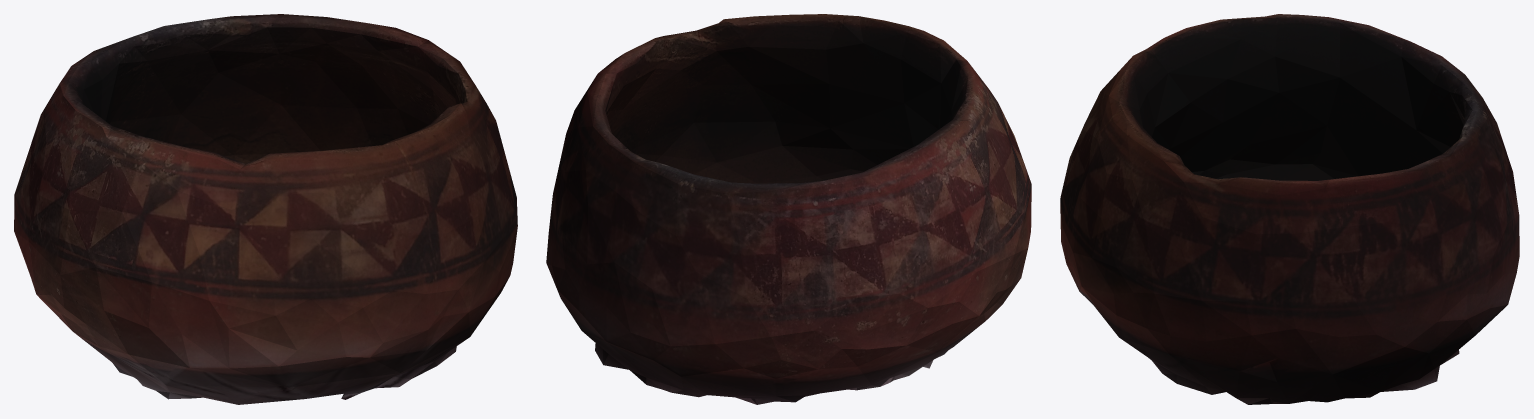
Rendered from 6-vasija3final.glb.
3 views of the same model, side by side, from view 1: azimuth 30°, elevation 25°; view 2: azimuth 150°, elevation 25°; view 3: azimuth 270°, elevation 25° (orthographic). The views are drawn at different scales.
Visible parts, largest first — view 1: Mesh_1.002, Mesh_2.002; view 2: Mesh_1.002, Mesh_2.002; view 3: Mesh_1.002, Mesh_2.002.
Boxes of the visible parts, bbox=[...] form: Mesh_1.002: bbox=[14, 14, 517, 404]; Mesh_2.002: bbox=[69, 22, 475, 399]; Mesh_1.002: bbox=[546, 14, 1031, 404]; Mesh_2.002: bbox=[588, 20, 952, 402]; Mesh_1.002: bbox=[1060, 14, 1519, 404]; Mesh_2.002: bbox=[1130, 18, 1472, 402].
Size of what is drawn, in the model's own units: 4.13 by 2.4 by 4.09.
2 materials, 2 textured.
